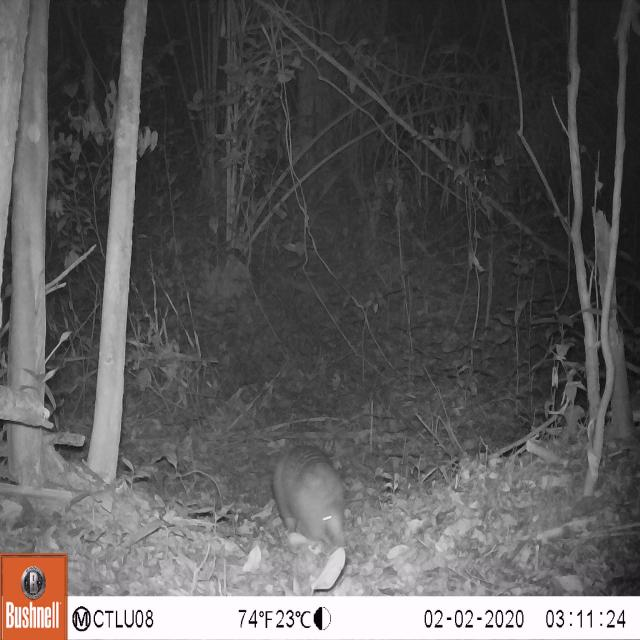Armadillo: (262, 436, 358, 563)
